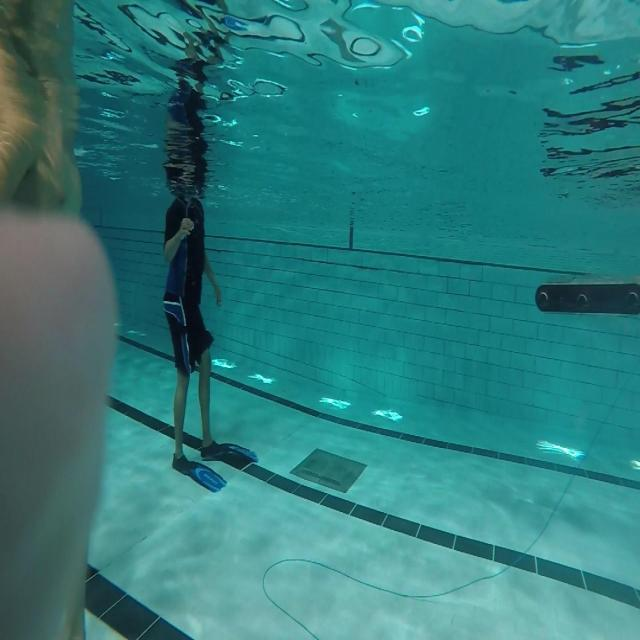human: (162, 192, 229, 472)
